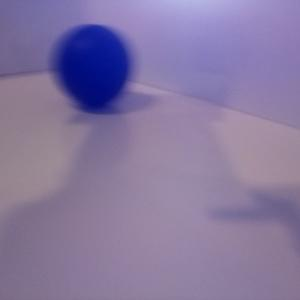dead_ball: (53, 24, 133, 105)
